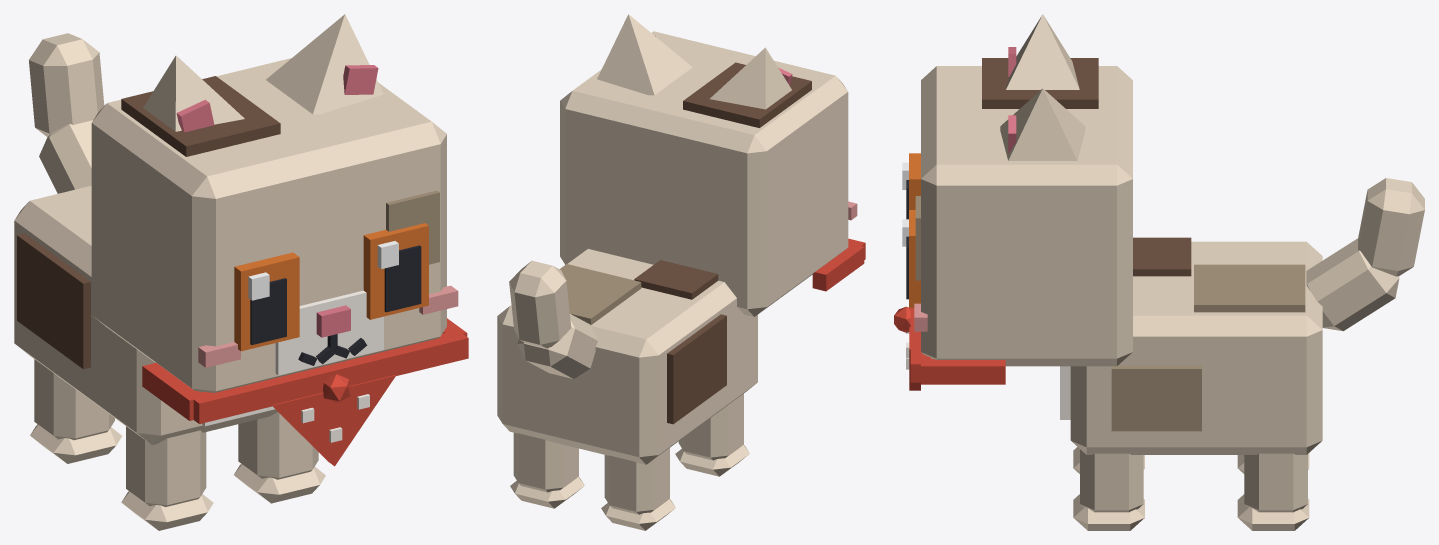
Rendered from CatCafe_Cat_Dusty.glb.
3 views of the same model, side by side, from view 1: azimuth 30°, elevation 25°; view 2: azimuth 150°, elevation 25°; view 3: azimuth 270°, elevation 25° (orthographic). The views are drawn at different scales.
Visible parts, largest first — view 1: CatCafe_Cat_Dusty_Head, CatCafe_Cat_Dusty_Body, CatCafe_Cat_Dusty_Prop, CatCafe_Cat_Dusty_Tail, CatCafe_Cat_Dusty_LegF2, CatCafe_Cat_Dusty_EarL, CatCafe_Cat_Dusty_LegF1, CatCafe_Cat_Dusty_Eye2, CatCafe_Cat_Dusty_LegB2, CatCafe_Cat_Dusty_Eye1, CatCafe_Cat_Dusty_EarR; view 2: CatCafe_Cat_Dusty_Head, CatCafe_Cat_Dusty_Body, CatCafe_Cat_Dusty_Tail, CatCafe_Cat_Dusty_LegB2, CatCafe_Cat_Dusty_EarL, CatCafe_Cat_Dusty_LegB1, CatCafe_Cat_Dusty_LegF2, CatCafe_Cat_Dusty_EarR, CatCafe_Cat_Dusty_Prop; view 3: CatCafe_Cat_Dusty_Head, CatCafe_Cat_Dusty_Body, CatCafe_Cat_Dusty_Tail, CatCafe_Cat_Dusty_LegF1, CatCafe_Cat_Dusty_LegB1, CatCafe_Cat_Dusty_EarL, CatCafe_Cat_Dusty_EarR, CatCafe_Cat_Dusty_Prop, CatCafe_Cat_Dusty_Eye1, CatCafe_Cat_Dusty_Eye2.
Boxes of the visible parts, box(x1,y1,x2,y2) form: CatCafe_Cat_Dusty_Head: box(91, 58, 458, 392); CatCafe_Cat_Dusty_Body: box(14, 185, 277, 444); CatCafe_Cat_Dusty_Prop: box(142, 318, 468, 466); CatCafe_Cat_Dusty_Tail: box(29, 33, 104, 193); CatCafe_Cat_Dusty_LegF2: box(121, 426, 213, 530); CatCafe_Cat_Dusty_EarL: box(266, 14, 383, 114); CatCafe_Cat_Dusty_LegF1: box(234, 412, 325, 503); CatCafe_Cat_Dusty_Eye2: box(234, 252, 299, 351); CatCafe_Cat_Dusty_LegB2: box(30, 359, 121, 463); CatCafe_Cat_Dusty_Eye1: box(363, 223, 428, 319); CatCafe_Cat_Dusty_EarR: box(143, 55, 244, 132); CatCafe_Cat_Dusty_Head: box(560, 31, 857, 316); CatCafe_Cat_Dusty_Body: box(497, 249, 757, 464); CatCafe_Cat_Dusty_Tail: box(509, 260, 597, 378); CatCafe_Cat_Dusty_LegB2: box(601, 448, 675, 530); CatCafe_Cat_Dusty_EarL: box(597, 14, 692, 95); CatCafe_Cat_Dusty_LegB1: box(510, 432, 584, 508); CatCafe_Cat_Dusty_LegF2: box(675, 393, 749, 476); CatCafe_Cat_Dusty_EarR: box(710, 47, 792, 109); CatCafe_Cat_Dusty_Prop: box(812, 238, 865, 291); CatCafe_Cat_Dusty_Head: box(914, 58, 1132, 366); CatCafe_Cat_Dusty_Body: box(1060, 237, 1322, 454); CatCafe_Cat_Dusty_Tail: box(1306, 178, 1424, 331); CatCafe_Cat_Dusty_LegF1: box(1073, 449, 1144, 530); CatCafe_Cat_Dusty_LegB1: box(1237, 453, 1309, 530); CatCafe_Cat_Dusty_EarL: box(1000, 88, 1085, 160); CatCafe_Cat_Dusty_EarR: box(1006, 14, 1079, 89); CatCafe_Cat_Dusty_Prop: box(894, 306, 1005, 390); CatCafe_Cat_Dusty_Eye1: box(902, 210, 920, 307); CatCafe_Cat_Dusty_Eye2: box(902, 153, 920, 219).
Size of the model in its own units: 1.09 by 1.86 by 2.
Materials: 1 (1 with a texture image).
